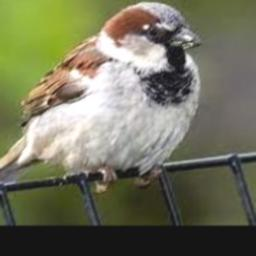Sparrow: (0, 2, 201, 211)
